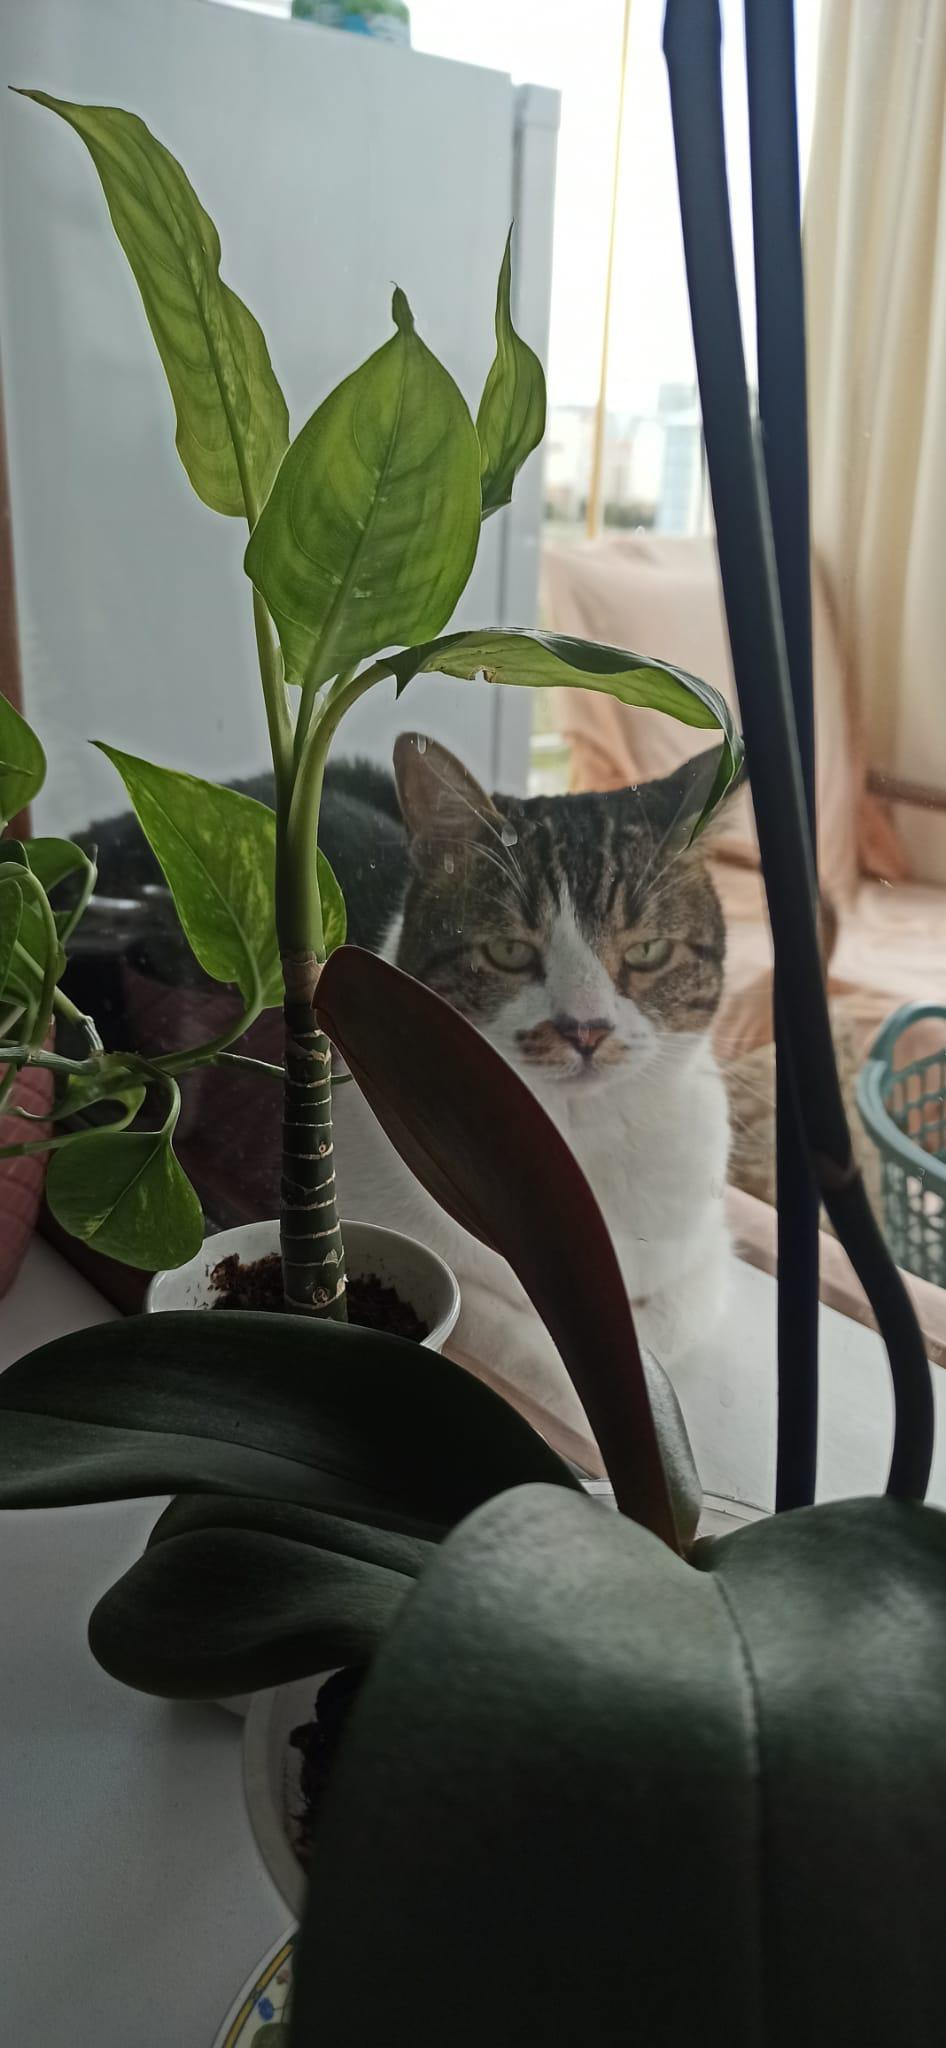kedo: (404, 744, 732, 1093)
